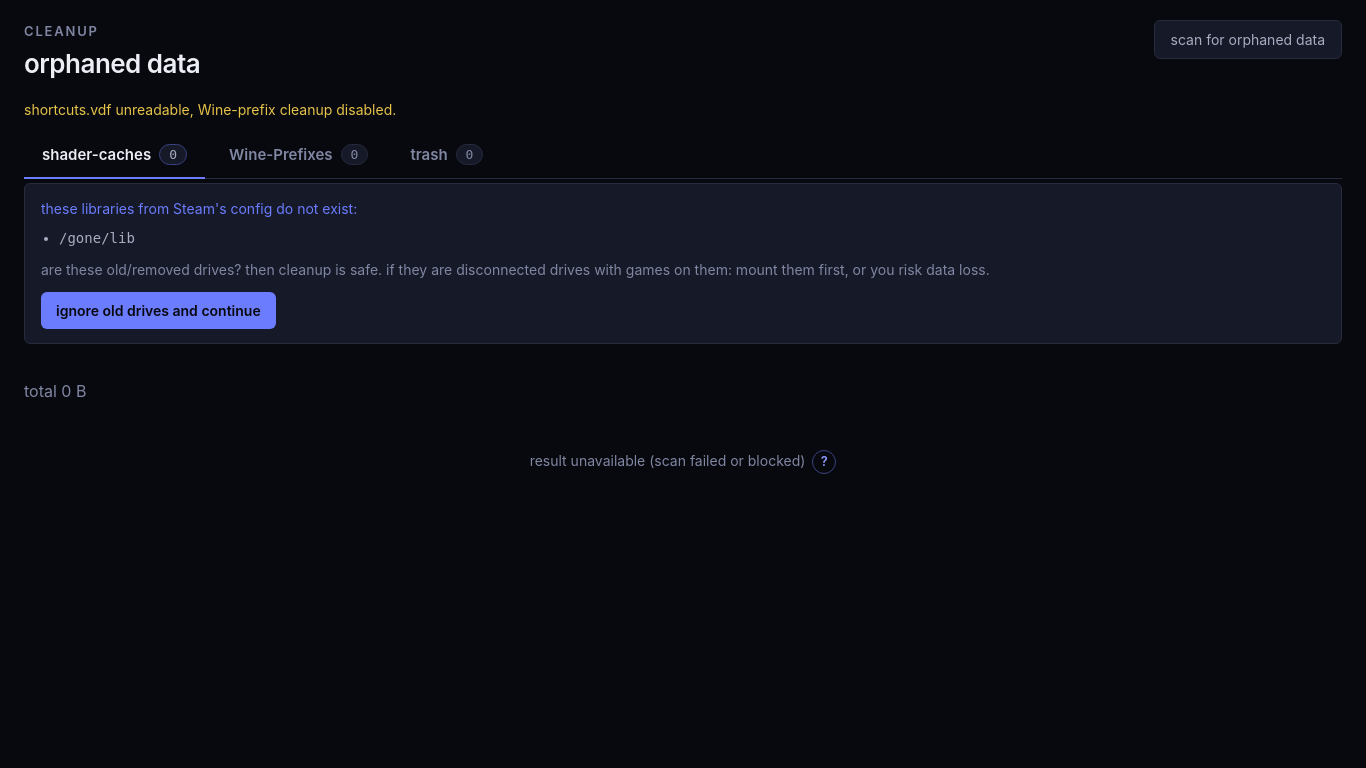
Test: CleanupView incomplete deletions › blockiert leerzustände bei path-missing und shortcutUnreadable passend zur liste
expect the panel with id "cv-panel-shaders" shows "result unavailable (scan failed or blocked)": met, box [530, 452, 805, 469]
Click the tab with id "cv-tab-prefixes". click: point(299, 155)
box: [211, 132, 386, 178]
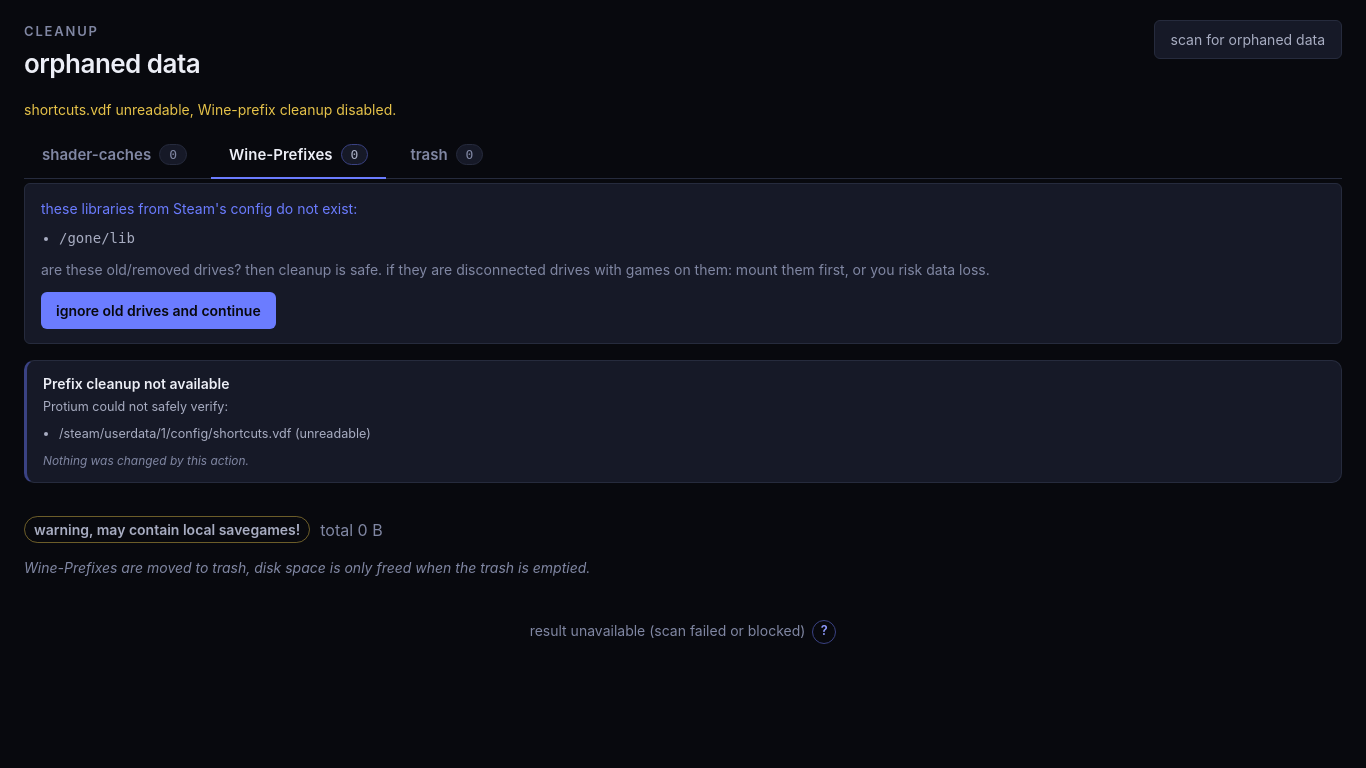
expect the panel with id "cv-panel-prefixes" shows "result unavailable (scan failed or blocked)": met, box [530, 622, 805, 638]
Click the tab with id "cv-tab-trash". click: point(447, 155)
box: [392, 132, 501, 178]
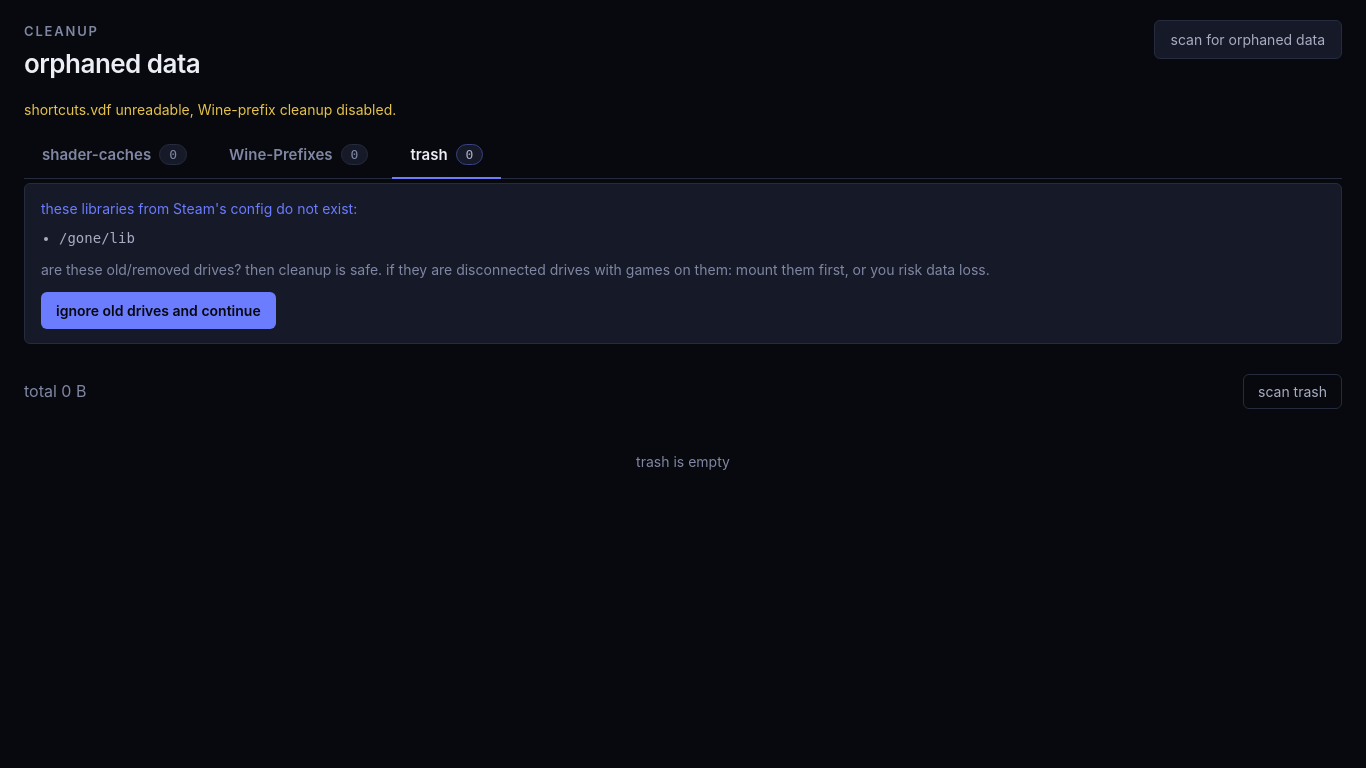
expect the panel with id "cv-panel-trash" shows "trash is empty": met, box [636, 453, 730, 470]
